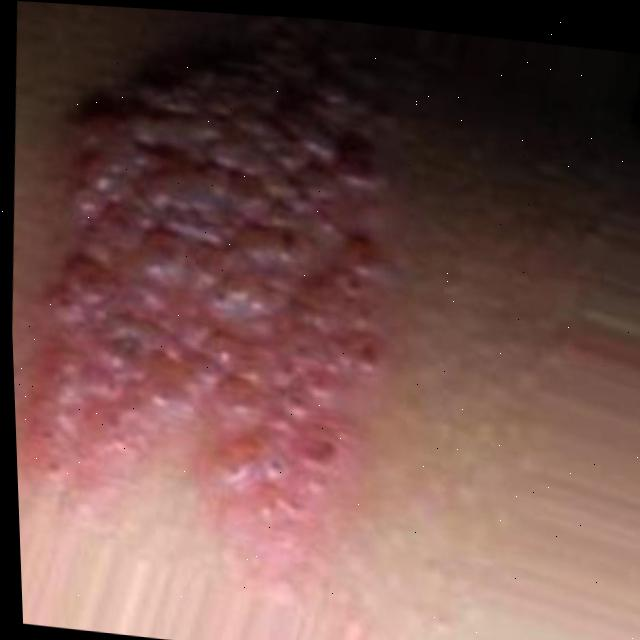Shingles: (0, 1, 430, 586)
